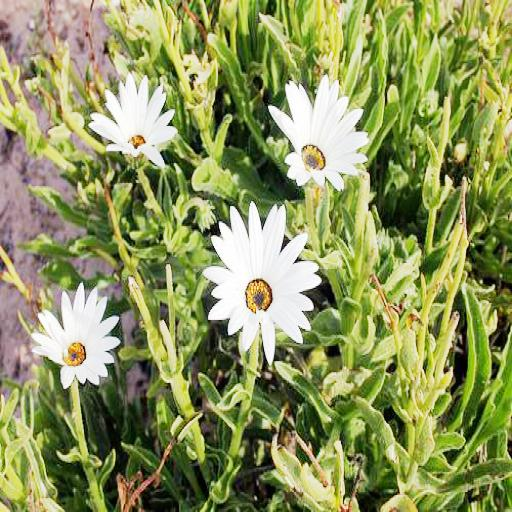daisy: (212, 206, 311, 352), (274, 80, 362, 189), (30, 295, 118, 383), (97, 78, 173, 162)
